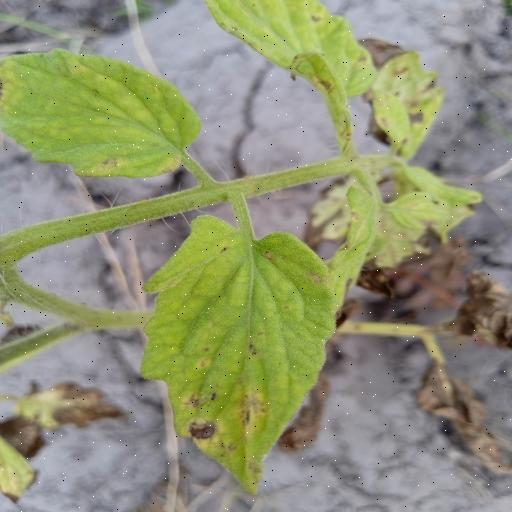Tomato_Brown_Spots: (135, 213, 344, 499), (0, 46, 201, 182), (203, 0, 380, 133)
